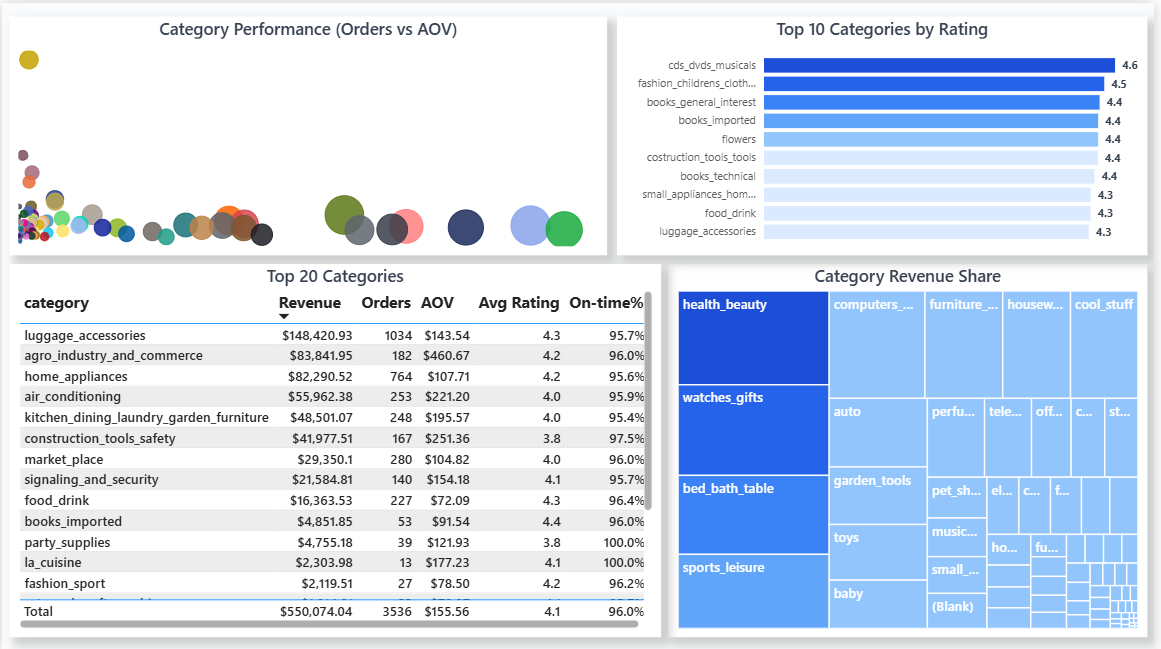

The page's visual inventory and layout, read from the dashboard file:
{"tool":"powerbi","page":{"name":"Category & Product","canvas":[1280,720],"ordinal":2},"visuals":[{"type":"treemap","title":"Category Revenue Share","fields":{"Group":["public bi_fact_sales.category"],"Values":["public bi_fact_sales.Revenue"]},"box":[740,289.8,532.7,414.5],"z":0},{"type":"scatterChart","title":"Category Performance (Orders vs AOV)","fields":{"X":["public bi_fact_sales.Orders"],"Y":["public bi_fact_sales.AOV"],"Series":["public bi_fact_sales.category"],"Size":["public bi_fact_sales.Revenue"]},"box":[8.1,14.6,663.9,265.6],"z":1000},{"type":"barChart","title":"Top 10 Categories by Rating","fields":{"Y":["public bi_fact_sales.Avg Rating"],"Category":["public bi_fact_sales.category"]},"box":[683.3,14.6,589.4,265.6],"z":2000},{"type":"tableEx","title":"Top 20 Categories","fields":{"Values":["public bi_fact_sales.category","public bi_fact_sales.Revenue","public bi_fact_sales.Orders","public bi_fact_sales.AOV","public bi_fact_sales.Avg Rating","public bi_fact_sales.On-time%"]},"box":[8.1,289.8,723.8,414.5],"z":3000}]}

Visuals, with their boxes in screenshot pixels (x1, y1, x2, y2), scaled from the page's 1280x720 canvas onto the 1161x649 screenshot:
"Category Revenue Share" treemap: pyautogui.locateOnScreen(671, 261, 1154, 635)
"Category Performance (Orders vs AOV)" scatterChart: pyautogui.locateOnScreen(7, 13, 610, 253)
"Top 10 Categories by Rating" barChart: pyautogui.locateOnScreen(620, 13, 1154, 253)
"Top 20 Categories" tableEx: pyautogui.locateOnScreen(7, 261, 664, 635)
